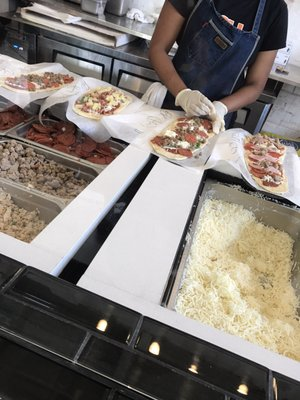sandwich: (0, 138, 90, 200), (19, 118, 123, 166), (149, 115, 220, 159), (242, 133, 289, 194), (0, 189, 45, 243), (73, 85, 133, 121), (2, 71, 78, 92)
